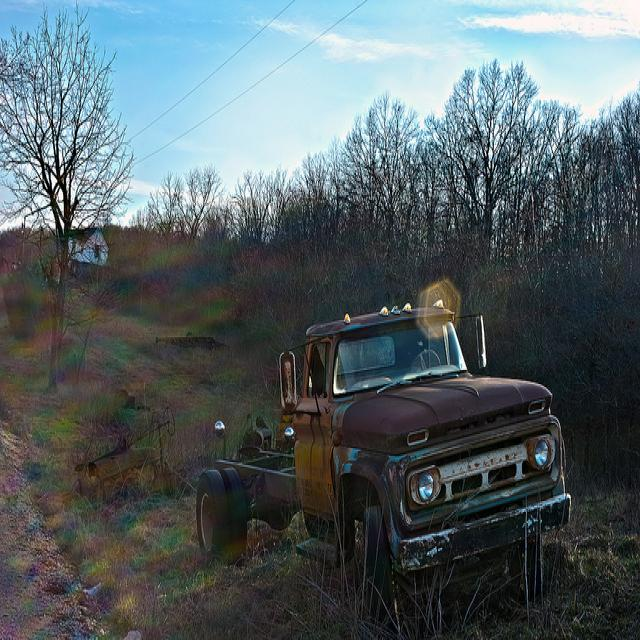Vehicle: (198, 307, 570, 617)
